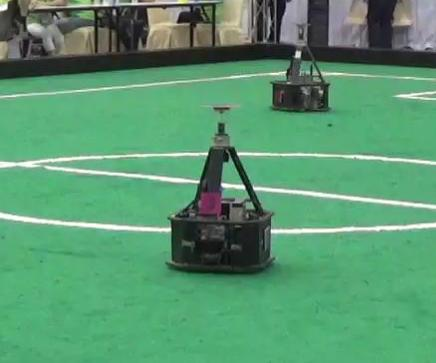robot: (162, 103, 283, 276), (270, 20, 334, 112)
